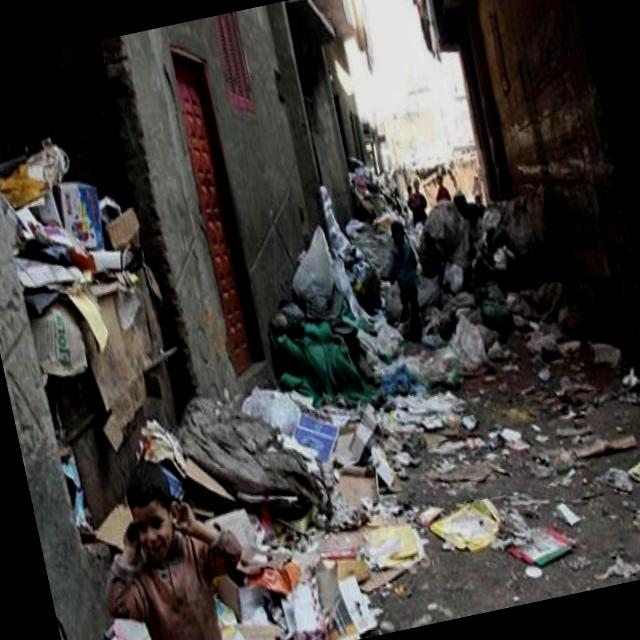garbage: (161, 289, 439, 640), (0, 121, 179, 446), (412, 178, 576, 418), (280, 172, 404, 305)
